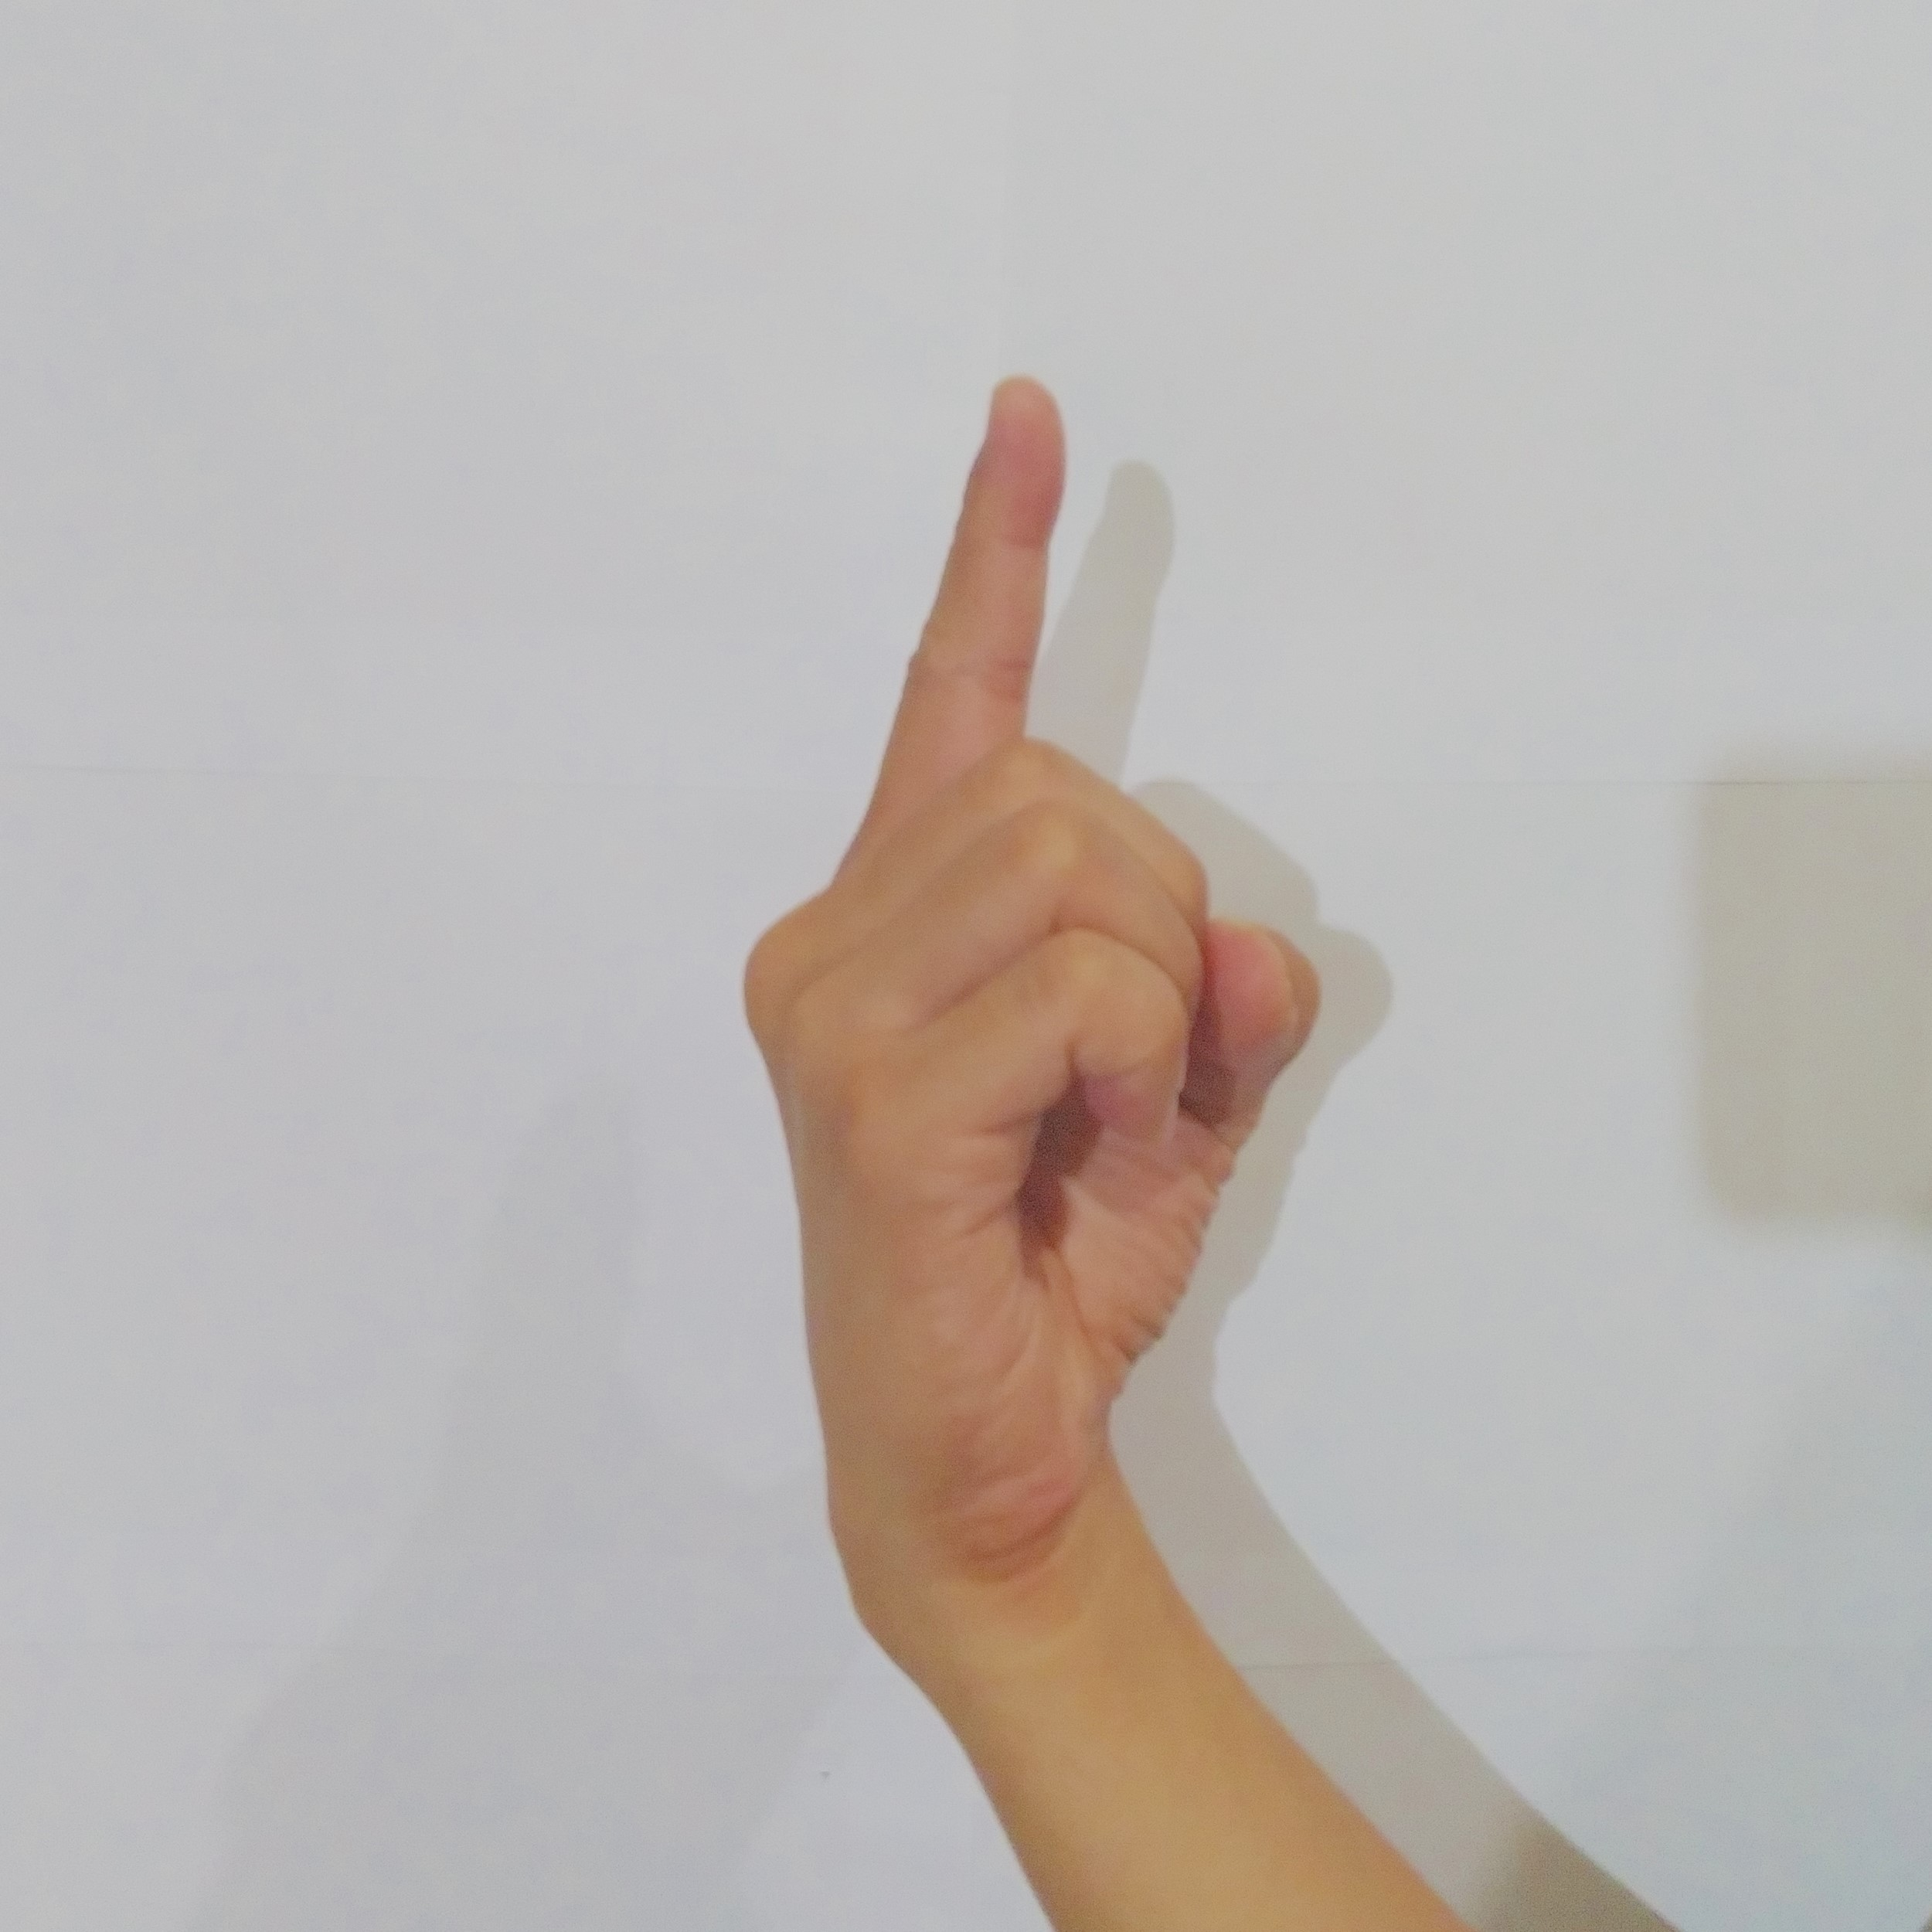D: (727, 352, 1341, 1486)
